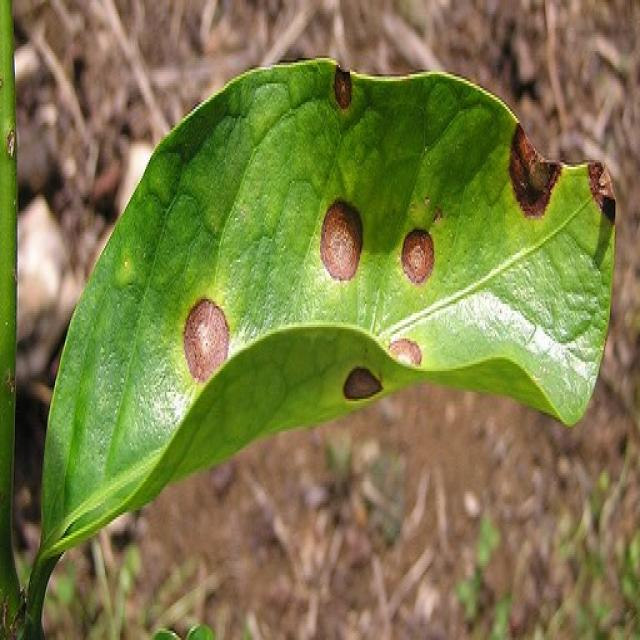Enfermedad-Mancha-de-hierro: (29, 60, 614, 617)
